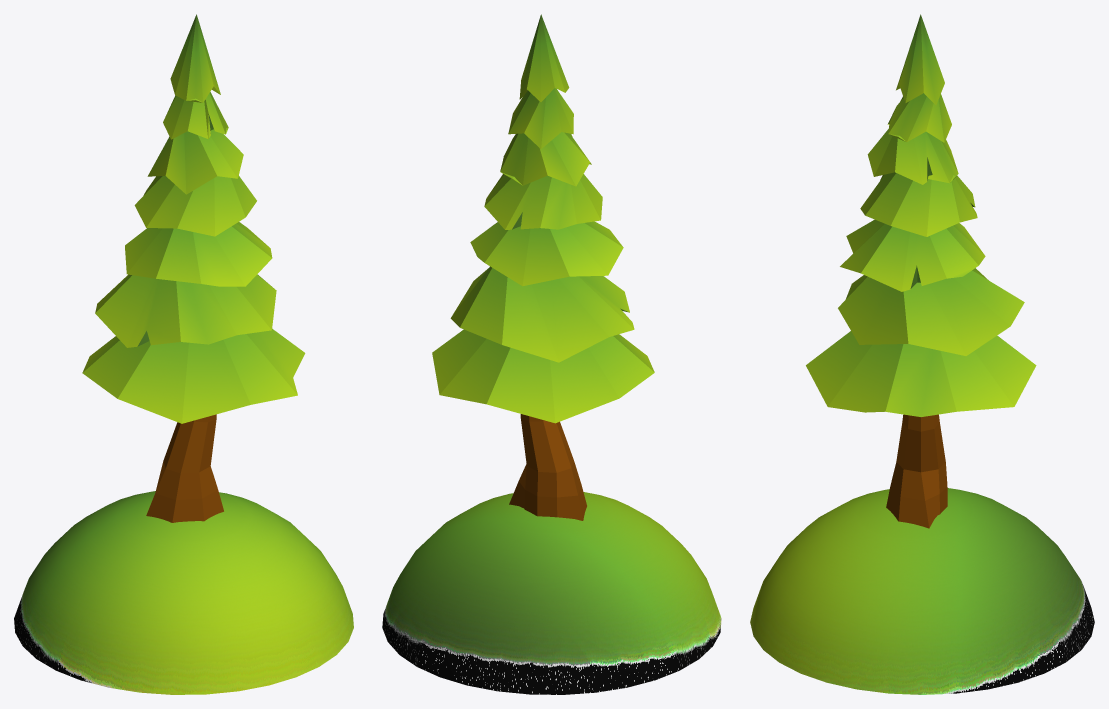
The model's file is tree.obj.
3 views of the same model, side by side, from view 1: azimuth 30°, elevation 25°; view 2: azimuth 150°, elevation 25°; view 3: azimuth 270°, elevation 25° (orthographic).
Visible parts, largest first — view 1: Sphere_Material003_0, Cylinder_Material002_0, Cylinder_Material001_0; view 2: Sphere_Material003_0, Cylinder_Material002_0, Cylinder_Material001_0; view 3: Sphere_Material003_0, Cylinder_Material002_0, Cylinder_Material001_0.
Boxes of the visible parts, left/top/right/bottom form: Sphere_Material003_0: left=14, top=491, right=353, bottom=694; Cylinder_Material002_0: left=82, top=14, right=305, bottom=423; Cylinder_Material001_0: left=146, top=414, right=223, bottom=522; Sphere_Material003_0: left=382, top=492, right=721, bottom=694; Cylinder_Material002_0: left=432, top=14, right=654, bottom=423; Cylinder_Material001_0: left=509, top=414, right=586, bottom=520; Sphere_Material003_0: left=750, top=488, right=1094, bottom=694; Cylinder_Material002_0: left=806, top=14, right=1036, bottom=416; Cylinder_Material001_0: left=886, top=414, right=947, bottom=528.
Bounding box in the file's own units: 2.13 × 4.19 × 2.13.
